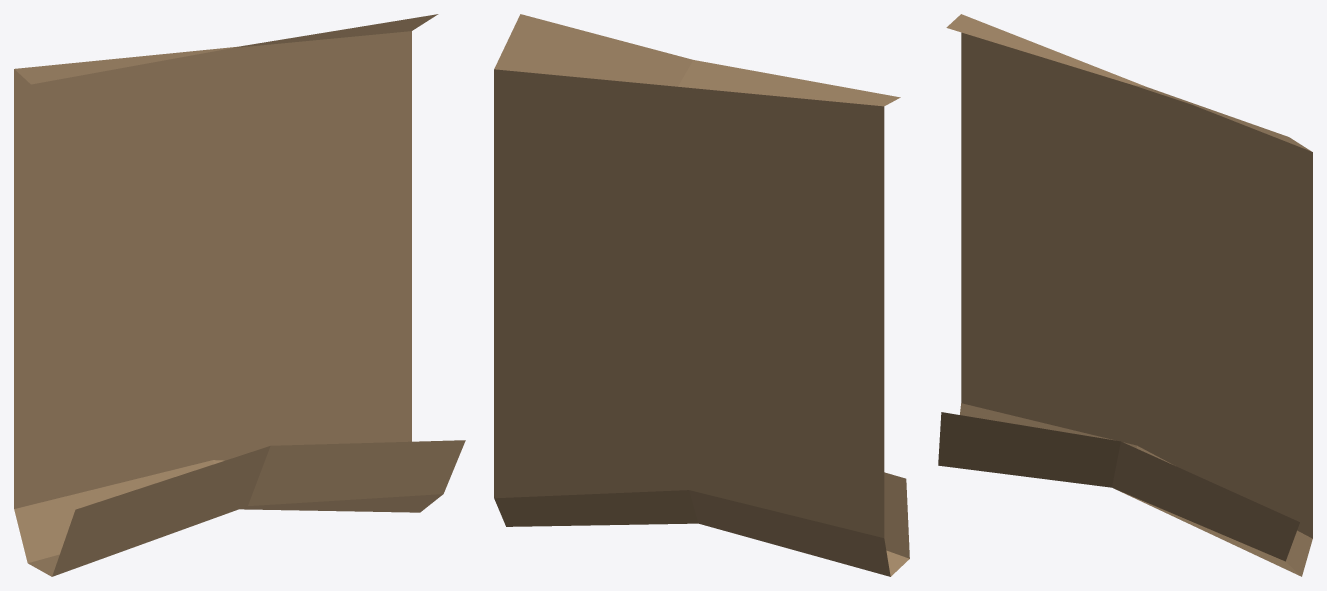
The model's file is SM_Prop_Sign_Poster_14.obj.
3 renders of one model, left to right at view 1: azimuth 30°, elevation 25°; view 2: azimuth 150°, elevation 25°; view 3: azimuth 330°, elevation 25°, orthographic. The views are drawn at different scales.
Parts seen in each view (by area): view 1: SM_Prop_Sign_Poster_14_0; view 2: SM_Prop_Sign_Poster_14_0; view 3: SM_Prop_Sign_Poster_14_0.
Boxes of the visible parts, x1=… form: SM_Prop_Sign_Poster_14_0: x1=14, y1=14, x2=465, y2=576; SM_Prop_Sign_Poster_14_0: x1=494, y1=14, x2=909, y2=576; SM_Prop_Sign_Poster_14_0: x1=938, y1=14, x2=1312, y2=576.
Size of the model in its own units: 0.4352 by 0.5306 by 0.0756.
1 material, 1 textured.
